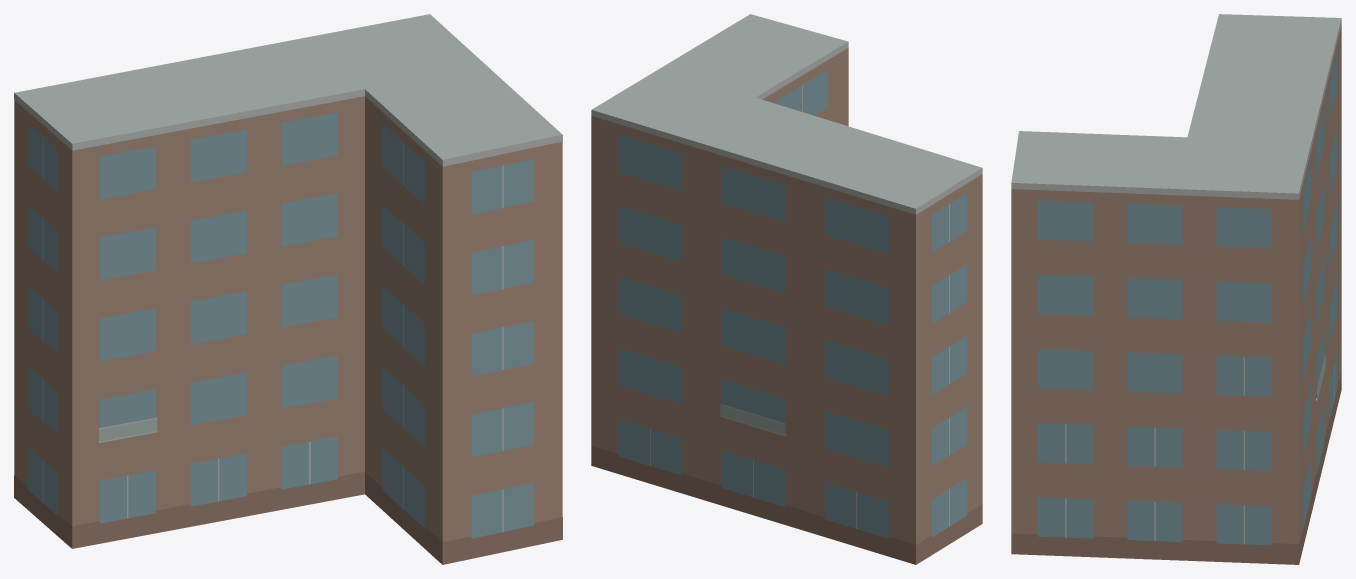
The model's file is survey-upis-32634796.glb.
The picture shows the model from 3 angles, left to right: view 1: azimuth 30°, elevation 25°; view 2: azimuth 150°, elevation 25°; view 3: azimuth 270°, elevation 25°; orthographic projection. The views are drawn at different scales.
Visible parts, largest first — view 1: survey-upis-32634796.tmp; view 2: survey-upis-32634796.tmp; view 3: survey-upis-32634796.tmp.
Part boxes in pixels (<box>): survey-upis-32634796.tmp: <box>14,14,562,564</box>; survey-upis-32634796.tmp: <box>591,14,982,564</box>; survey-upis-32634796.tmp: <box>1011,14,1341,564</box>.
Size of the model in its own units: 15.05 by 14.5 by 11.7.
